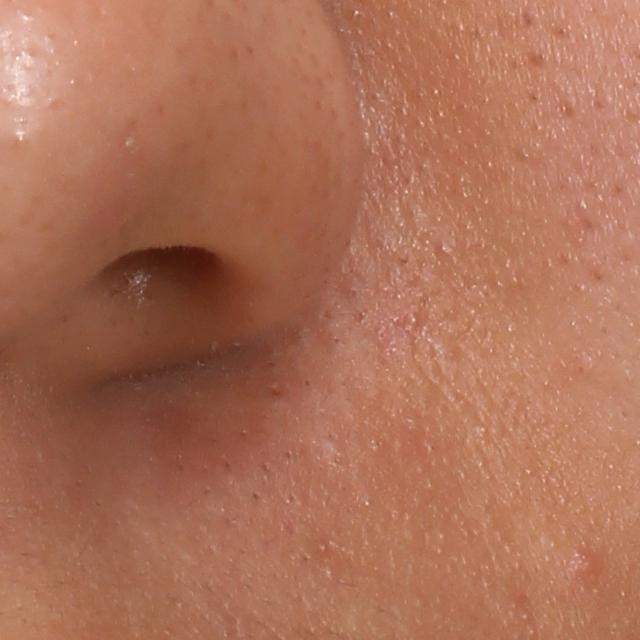papule: (565, 545, 603, 582)
